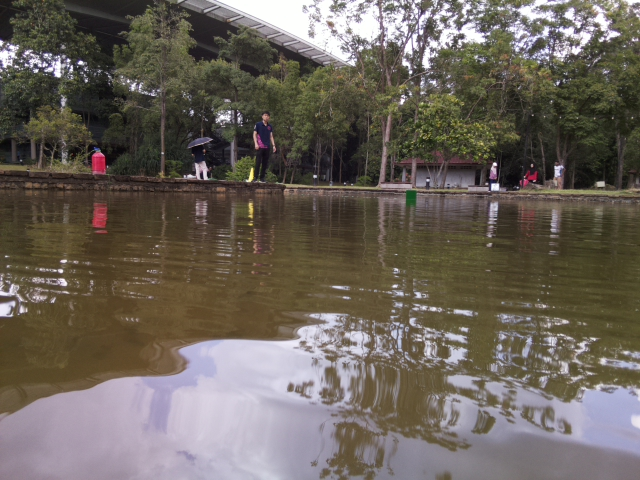checkpoint: (245, 167, 256, 182)
obstacle: (405, 189, 417, 198)
